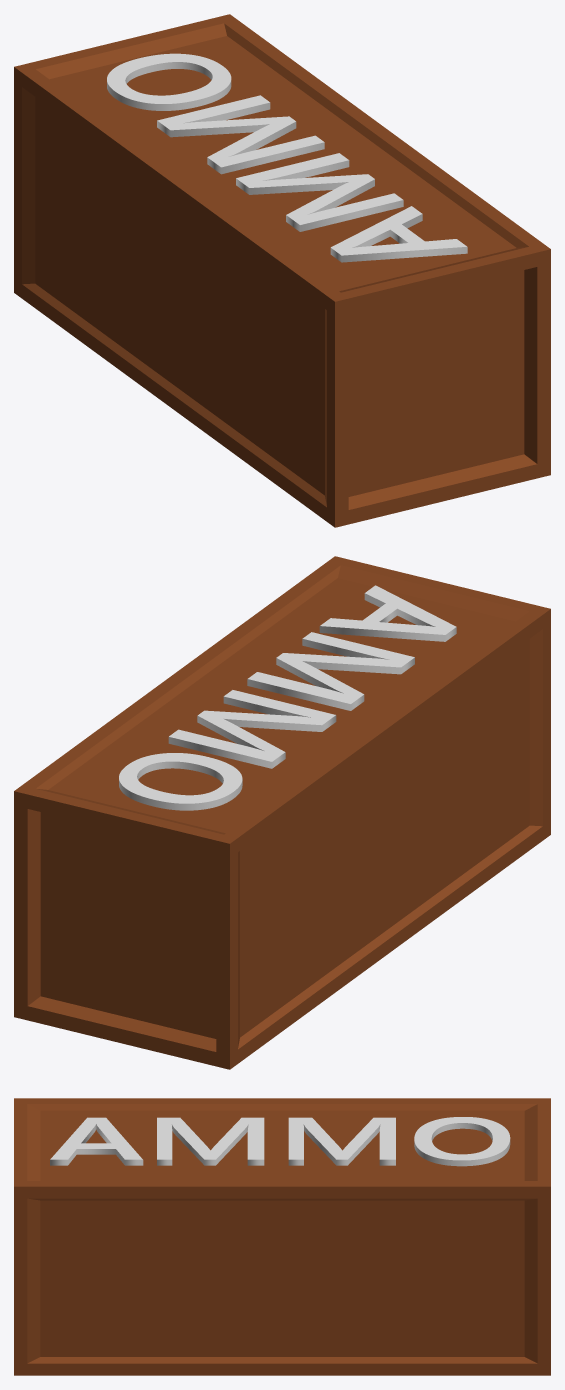
File: ammobox.glb
The picture shows the model from 3 angles, top to bottom: view 1: azimuth 30°, elevation 25°; view 2: azimuth 150°, elevation 25°; view 3: azimuth 270°, elevation 25°; orthographic projection. The views are drawn at different scales.
Parts seen in each view (by area): view 1: Cube, Text; view 2: Cube, Text; view 3: Cube, Text.
Part boxes in pixels (x1,y1,x2,y2): Cube: (14, 14, 550, 527); Text: (107, 53, 467, 262); Cube: (14, 556, 550, 1069); Text: (119, 585, 456, 810); Cube: (14, 1098, 550, 1375); Text: (50, 1117, 510, 1166).
Size of the model in its own units: 0.6522 by 0.6574 by 1.68.
